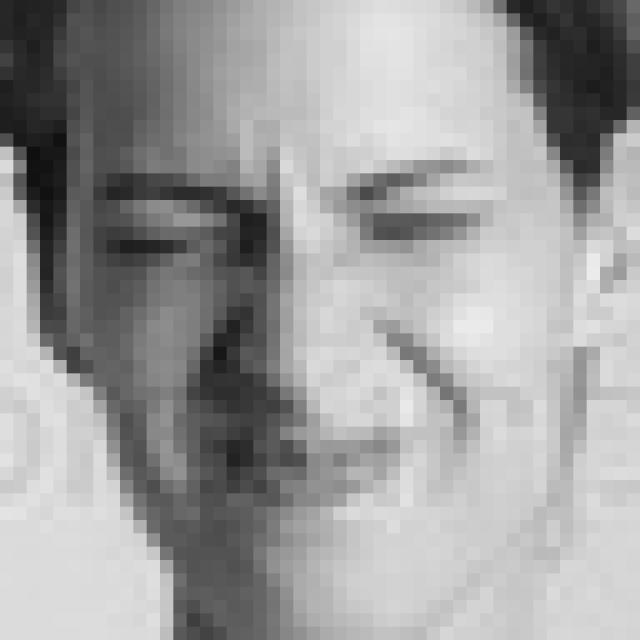disgust: (88, 125, 514, 549)
